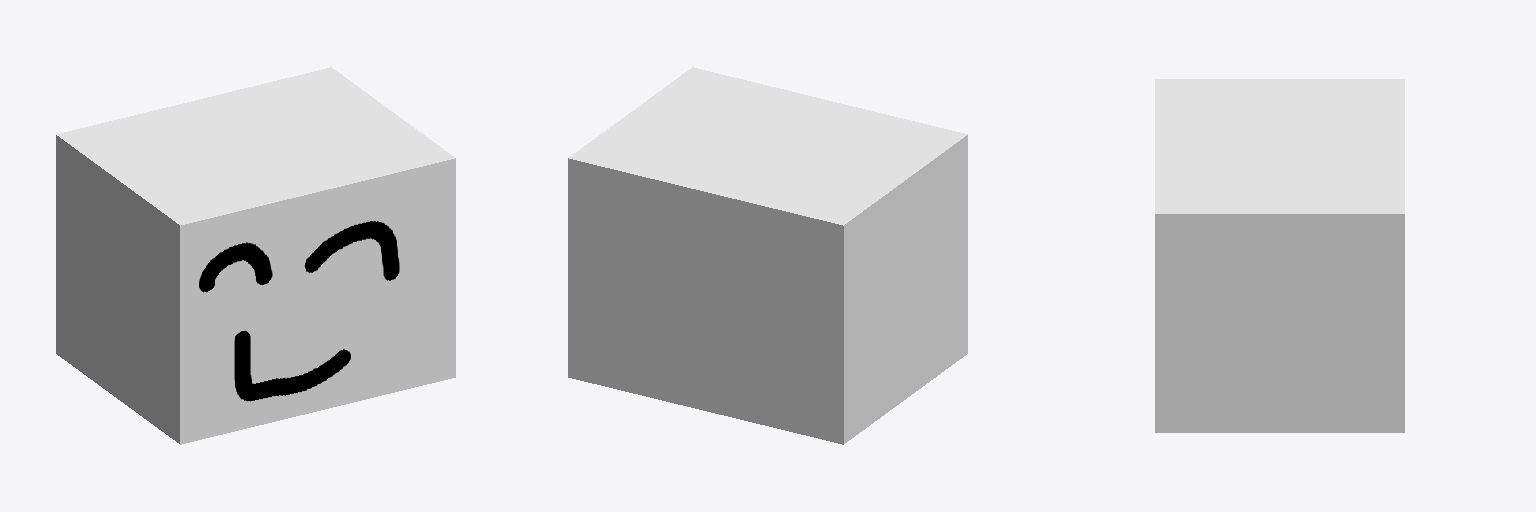
3 views of the same model, side by side, from view 1: azimuth 30°, elevation 25°; view 2: azimuth 150°, elevation 25°; view 3: azimuth 270°, elevation 25° (orthographic).
Visible parts, largest first — view 1: head; view 2: head; view 3: head.
Part boxes in pixels (left/top/right/bottom): head: left=56, top=67, right=455, bottom=444; head: left=568, top=67, right=967, bottom=444; head: left=1155, top=79, right=1404, bottom=432.
Size of the model in its own units: 0.7281 by 0.553 by 0.5694.
1 materials, 1 textured.